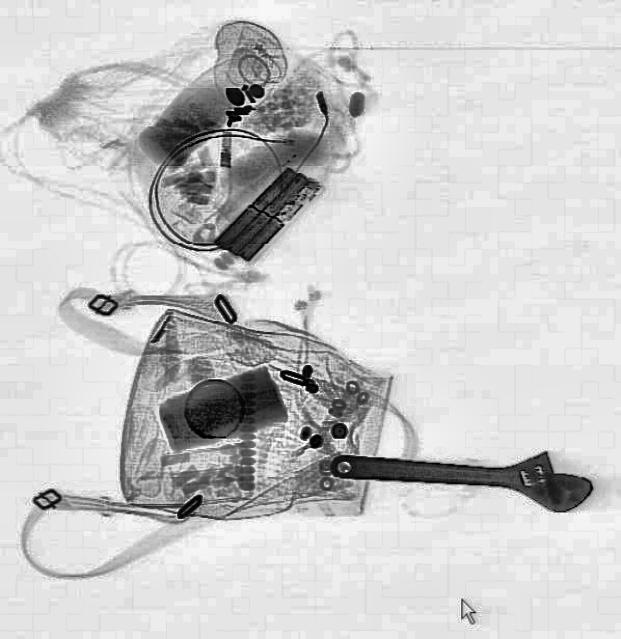Wrench: (328, 433, 596, 515)
